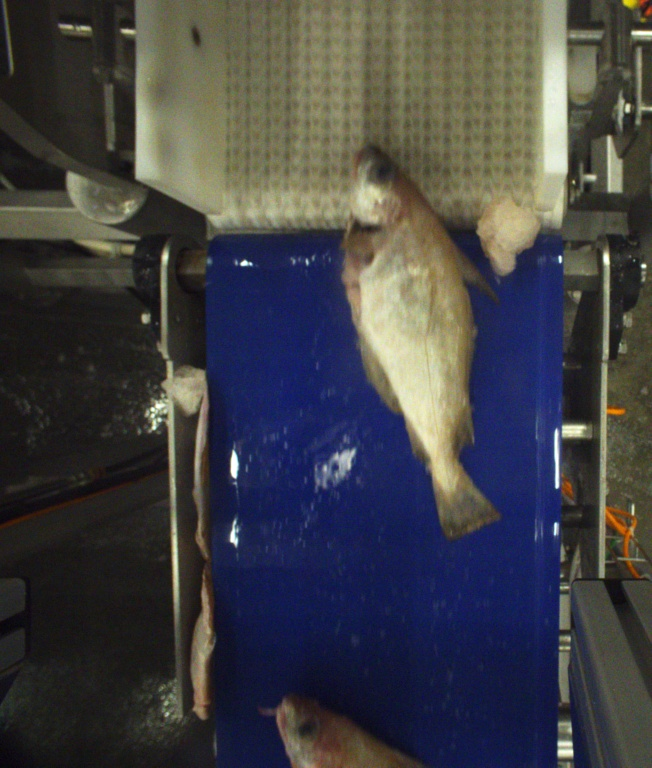BIB: (338, 146, 500, 542)
